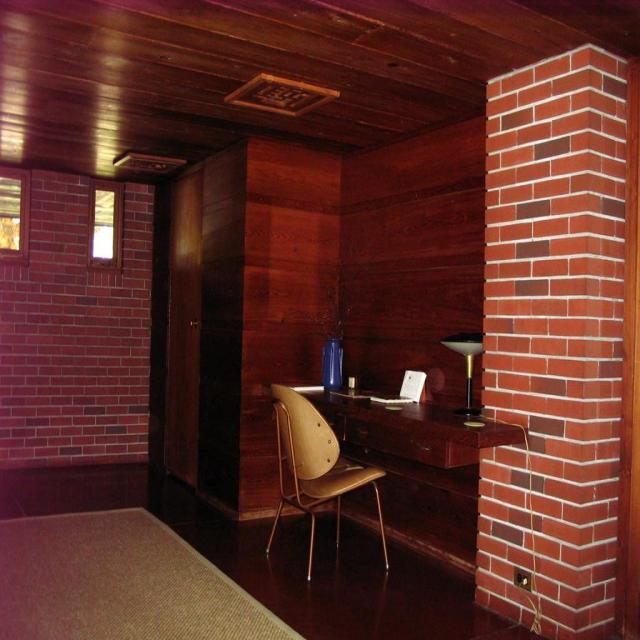table: (286, 368, 540, 574)
